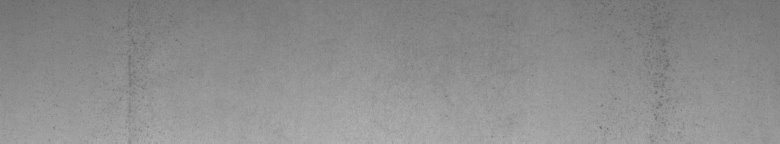ib: (599, 60, 670, 130)
